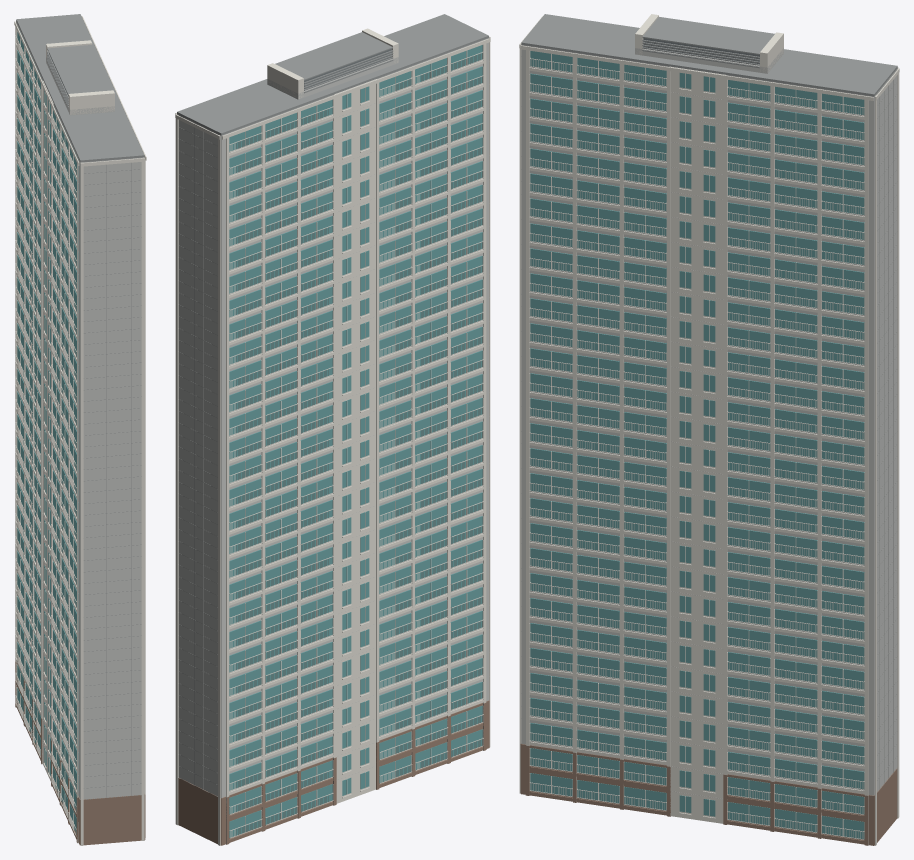
The model's file is bespoke-jamsil-els-152.glb.
3 views of the same model, side by side, from view 1: azimuth 30°, elevation 25°; view 2: azimuth 150°, elevation 25°; view 3: azimuth 270°, elevation 25° (orthographic). The views are drawn at different scales.
Visible parts, largest first — view 1: Els152_editable_Els152_light_grey_solid_wall, Els152_editable_Els152_turquoise_balcony_glazing, Els152_white_exact_chunk_2, Els152_white_exact_chunk_0, Els152_editable_Els152_modest_grey_flat_roof_caps, Els152_white_exact_chunk_1, Els152_editable_Els152_muted_ground_wall, Els152_white_exact_chunk_5, Els152_white_exact_chunk_4; view 2: Els152_editable_Els152_turquoise_balcony_glazing, Els152_editable_Els152_light_grey_solid_wall, Els152_white_exact_chunk_0, Els152_white_exact_chunk_2, Els152_white_exact_chunk_1, Els152_editable_Els152_modest_grey_flat_roof_caps, Els152_editable_Els152_muted_ground_wall, Els152_white_exact_chunk_5; view 3: Els152_editable_Els152_turquoise_balcony_glazing, Els152_editable_Els152_light_grey_solid_wall, Els152_white_exact_chunk_5, Els152_white_exact_chunk_4, Els152_white_exact_chunk_2, Els152_white_exact_chunk_3, Els152_editable_Els152_modest_grey_flat_roof_caps, Els152_editable_Els152_muted_ground_wall, Els152_white_exact_chunk_0, Els152_editable_Els152_narrow_charcoal_service_strips.
Boxes of the visible parts, box(x1,y1,x2,y2) form: Els152_editable_Els152_light_grey_solid_wall: box(16, 21, 144, 799); Els152_editable_Els152_turquoise_balcony_glazing: box(17, 32, 78, 833); Els152_white_exact_chunk_2: box(14, 21, 144, 845); Els152_white_exact_chunk_0: box(15, 20, 53, 781); Els152_editable_Els152_modest_grey_flat_roof_caps: box(16, 14, 144, 799); Els152_white_exact_chunk_1: box(15, 23, 67, 817); Els152_editable_Els152_muted_ground_wall: box(15, 661, 145, 845); Els152_white_exact_chunk_5: box(46, 16, 146, 160); Els152_white_exact_chunk_4: box(118, 97, 145, 837); Els152_editable_Els152_turquoise_balcony_glazing: box(229, 45, 482, 837); Els152_editable_Els152_light_grey_solid_wall: box(177, 38, 488, 798); Els152_white_exact_chunk_0: box(175, 79, 376, 845); Els152_white_exact_chunk_2: box(222, 36, 490, 764); Els152_white_exact_chunk_1: box(226, 71, 447, 844); Els152_editable_Els152_modest_grey_flat_roof_caps: box(177, 14, 488, 796); Els152_editable_Els152_muted_ground_wall: box(178, 700, 489, 845); Els152_white_exact_chunk_5: box(175, 28, 398, 114); Els152_editable_Els152_turquoise_balcony_glazing: box(530, 51, 864, 839); Els152_editable_Els152_light_grey_solid_wall: box(521, 45, 897, 798); Els152_white_exact_chunk_5: box(520, 14, 873, 844); Els152_white_exact_chunk_4: box(526, 46, 817, 832); Els152_white_exact_chunk_2: box(519, 16, 898, 823); Els152_white_exact_chunk_3: box(529, 51, 715, 810); Els152_editable_Els152_modest_grey_flat_roof_caps: box(521, 14, 897, 792); Els152_editable_Els152_muted_ground_wall: box(520, 744, 897, 845); Els152_white_exact_chunk_0: box(875, 68, 899, 845); Els152_editable_Els152_narrow_charcoal_service_strips: box(643, 38, 759, 64).
Bounding box in the file's own units: 19.42 × 85 × 37.99.
